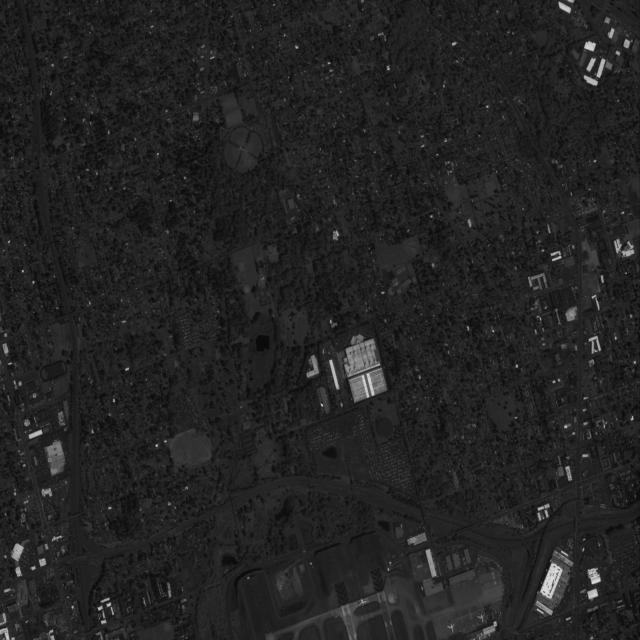plane: (356, 596, 369, 609), (476, 610, 488, 624), (445, 620, 457, 634), (492, 576, 496, 580), (491, 572, 495, 576), (494, 581, 497, 585)
